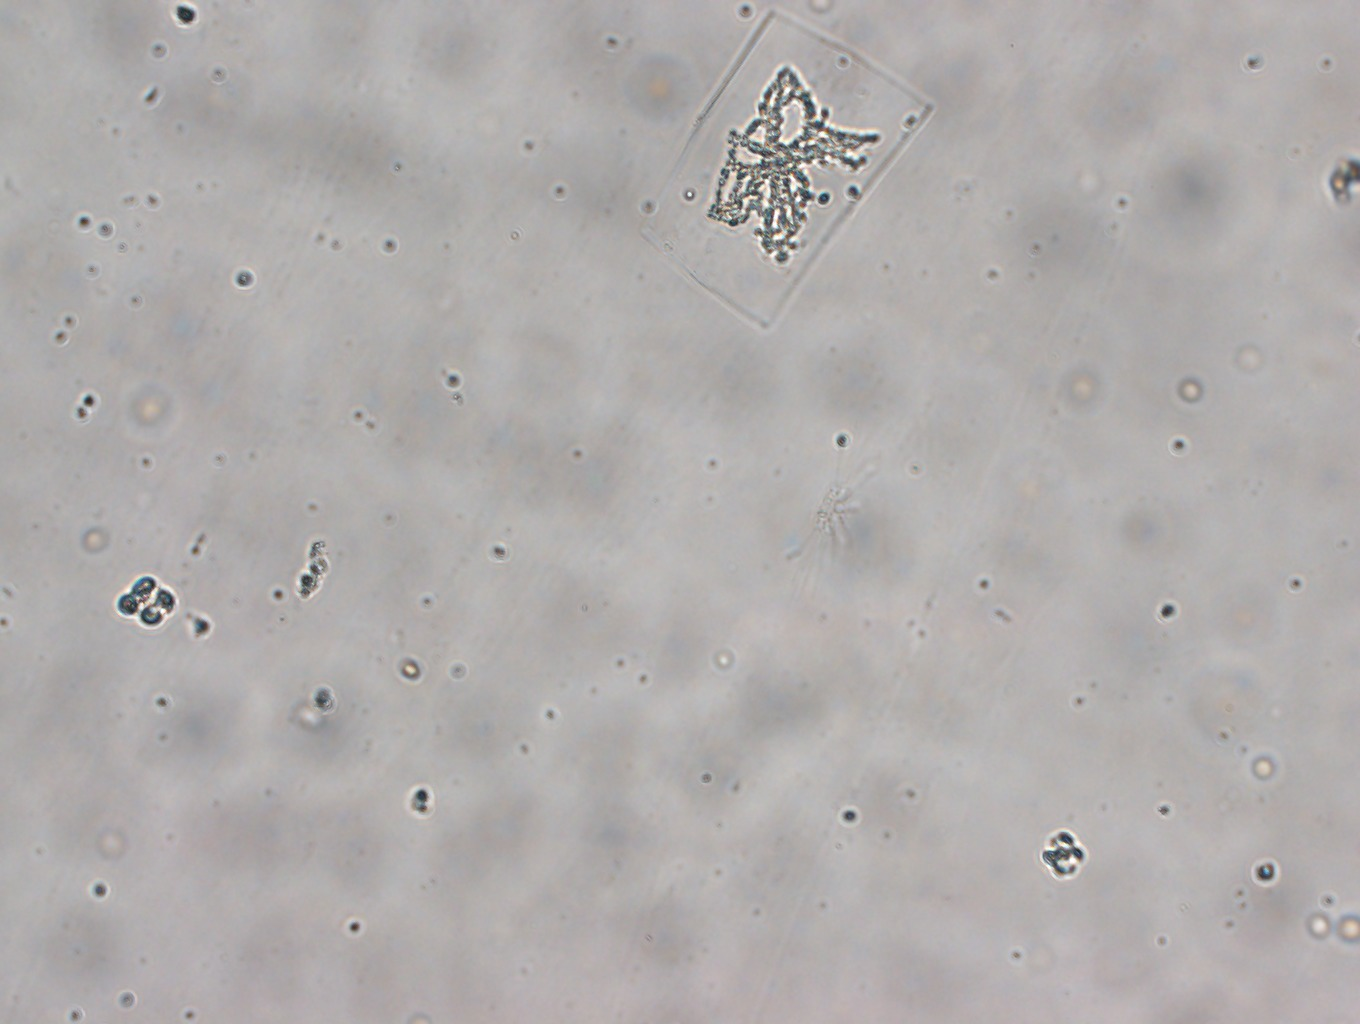helicotheca: (640, 9, 935, 328)
